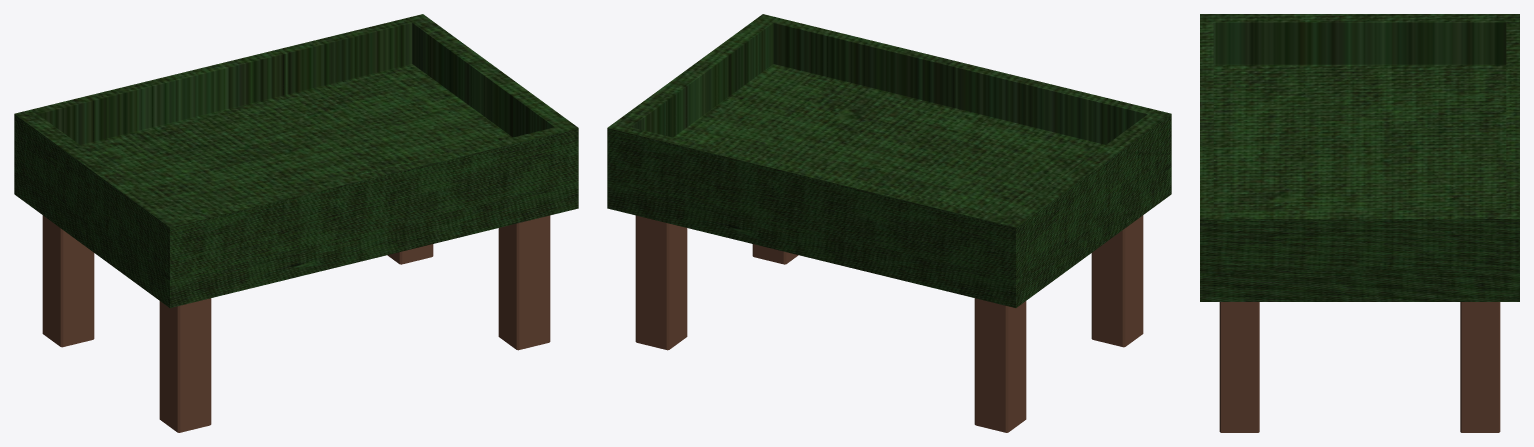
The model's file is Tisch (3).fbx.
3 renders of one model, left to right at view 1: azimuth 30°, elevation 25°; view 2: azimuth 150°, elevation 25°; view 3: azimuth 270°, elevation 25°, orthographic. The views are drawn at different scales.
Parts seen in each view (by area): view 1: Tisch, Beine; view 2: Tisch, Beine; view 3: Tisch, Beine.
Part boxes in pixels (left/top/right/bottom): Tisch: left=14, top=14, right=578, bottom=307; Beine: left=42, top=215, right=550, bottom=432; Tisch: left=607, top=14, right=1171, bottom=307; Beine: left=635, top=215, right=1143, bottom=432; Tisch: left=1200, top=14, right=1519, bottom=301; Beine: left=1219, top=302, right=1500, bottom=432.
Bounding box in the file's own units: 604 × 307 × 398.
